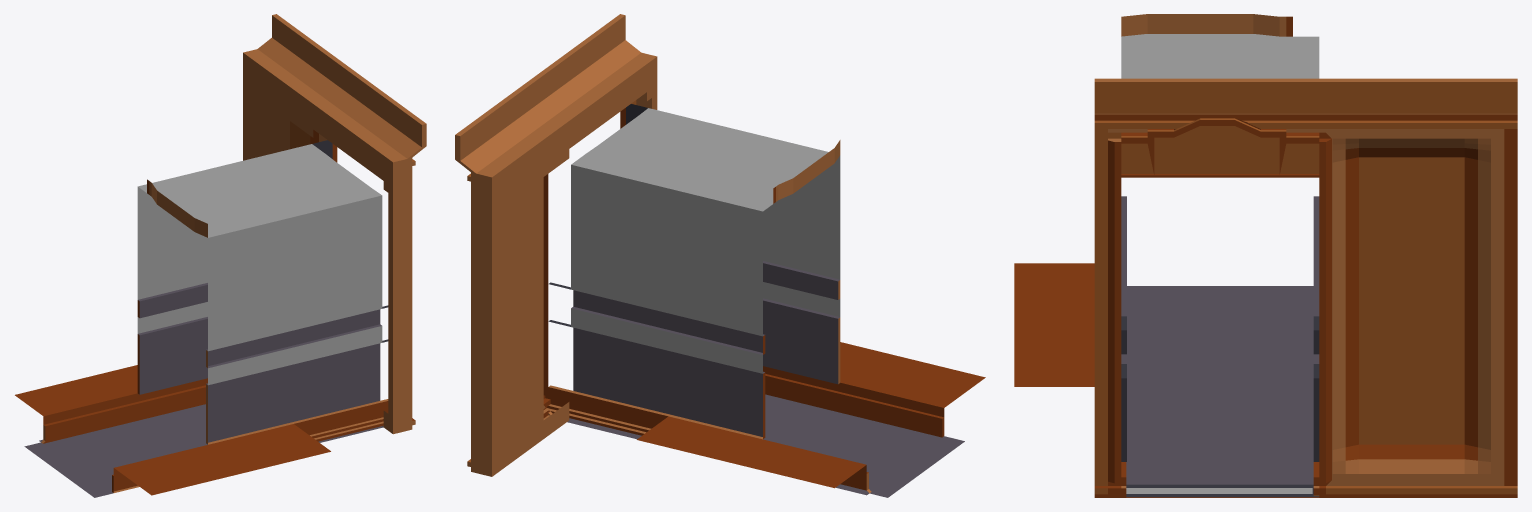
The model's file is elevatorWallDoorFixed.fbx.
3 renders of one model, left to right at view 1: azimuth 30°, elevation 25°; view 2: azimuth 150°, elevation 25°; view 3: azimuth 270°, elevation 25°, orthographic. The views are drawn at different scales.
Parts seen in each view (by area): view 1: elevatorWallDoor; view 2: elevatorWallDoor; view 3: elevatorWallDoor.
Boxes of the visible parts, box(x1,y1,x2,y2) form: elevatorWallDoor: box(15, 14, 426, 497); elevatorWallDoor: box(455, 14, 985, 497); elevatorWallDoor: box(1014, 14, 1517, 497).
Bounding box in the file's own units: 310 × 278 × 298.
